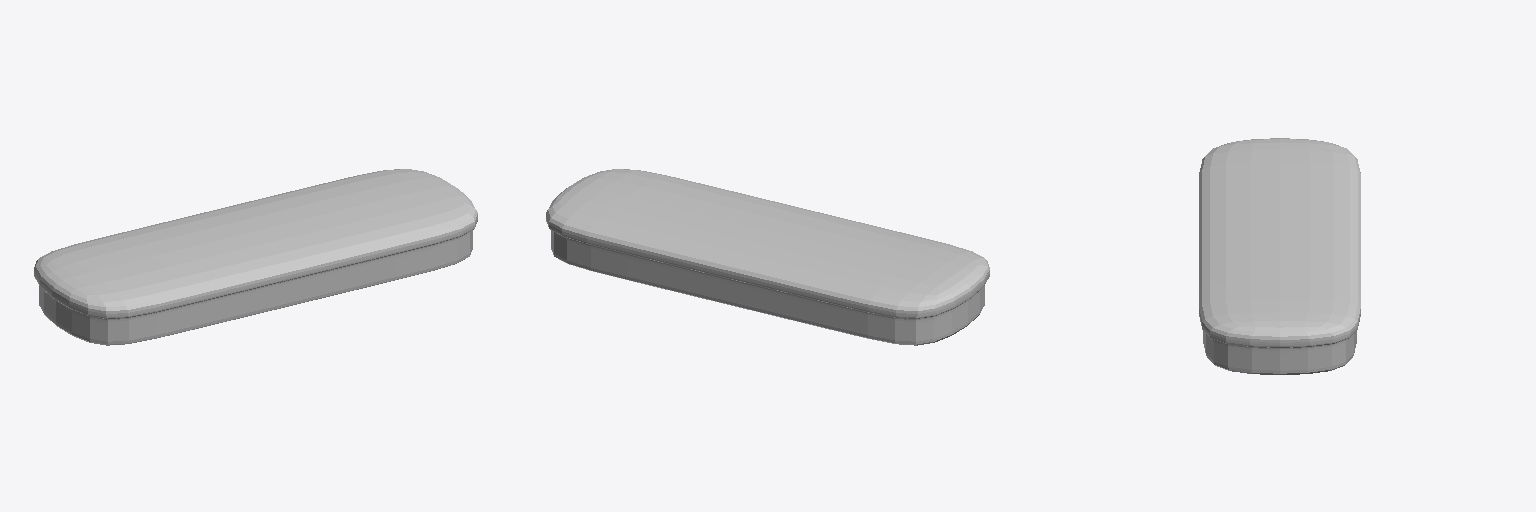
The model's file is plataforma.obj.
3 renders of one model, left to right at view 1: azimuth 30°, elevation 25°; view 2: azimuth 150°, elevation 25°; view 3: azimuth 270°, elevation 25°, orthographic.
Parts seen in each view (by area): view 1: Cube_Cube.001; view 2: Cube_Cube.001; view 3: Cube_Cube.001.
Boxes of the visible parts, x1=… form: Cube_Cube.001: x1=34, y1=169, x2=477, y2=345; Cube_Cube.001: x1=546, y1=169, x2=989, y2=345; Cube_Cube.001: x1=1199, y1=138, x2=1360, y2=374.
Bounding box in the file's own units: 3.45 × 0.4057 × 1.19.